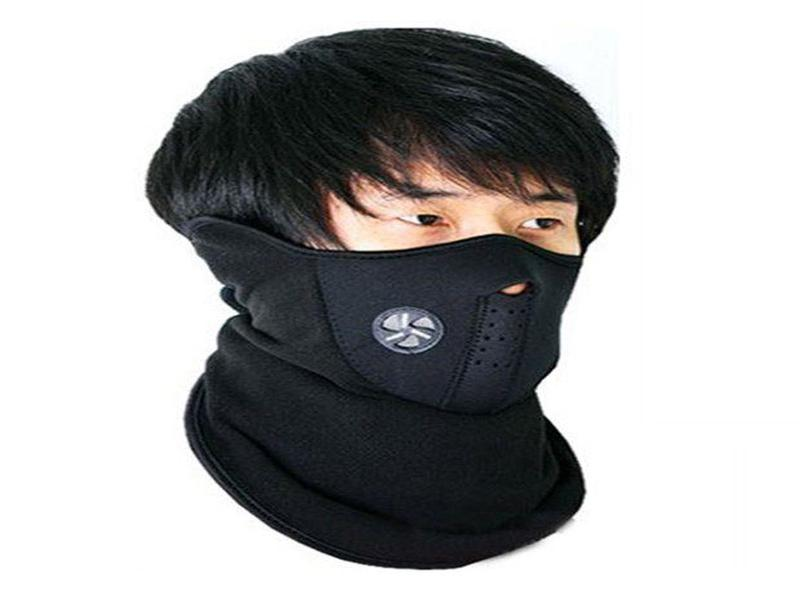with_mask: (148, 24, 602, 576)
